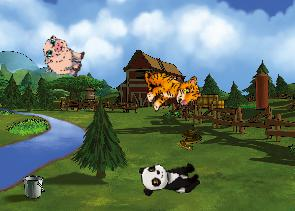panda: (138, 159, 201, 197)
pig: (37, 33, 88, 81)
tiger: (138, 57, 203, 117)
